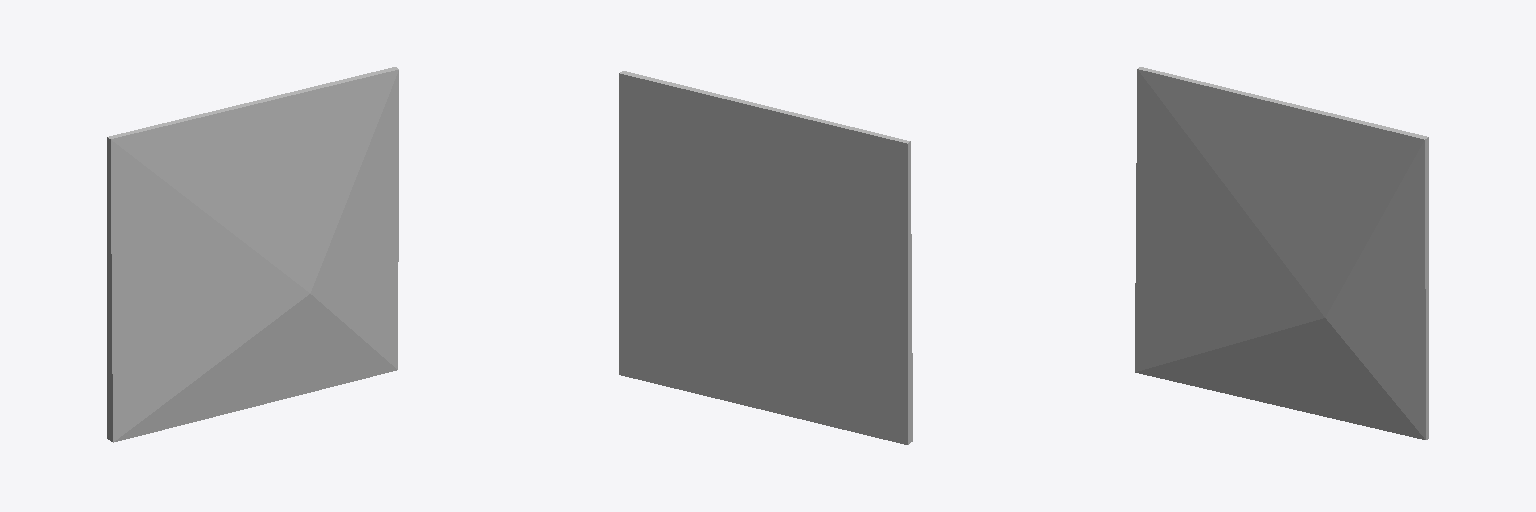
File: AungierStreet_TUDublin_Floor v2.obj
3 renders of one model, left to right at view 1: azimuth 30°, elevation 25°; view 2: azimuth 150°, elevation 25°; view 3: azimuth 330°, elevation 25°, orthographic.
Parts seen in each view (by area): view 1: MeshBody1; view 2: MeshBody1; view 3: MeshBody1.
Boxes of the visible parts, x1,y1,x2,y2 form: MeshBody1: [107, 67, 398, 442]; MeshBody1: [619, 71, 912, 444]; MeshBody1: [1135, 67, 1428, 439].
Size of the model in its own units: 503 by 503 by 27.71.